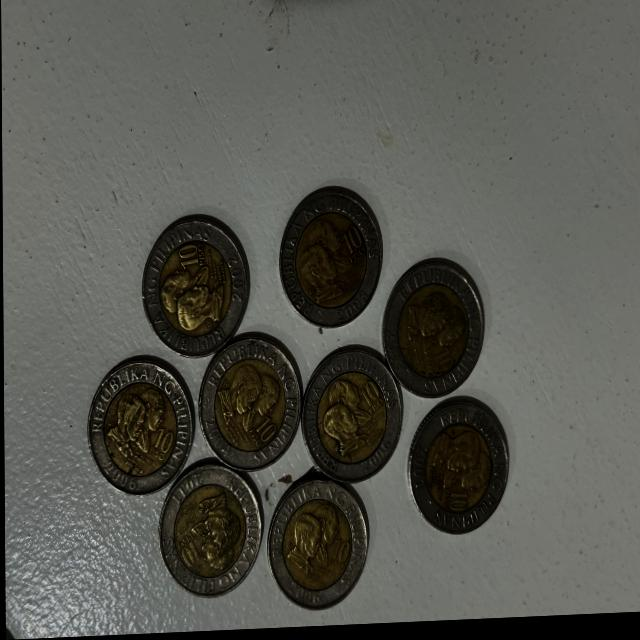10_Old_Front: (172, 221, 210, 285), (351, 373, 382, 420), (246, 409, 275, 456)
